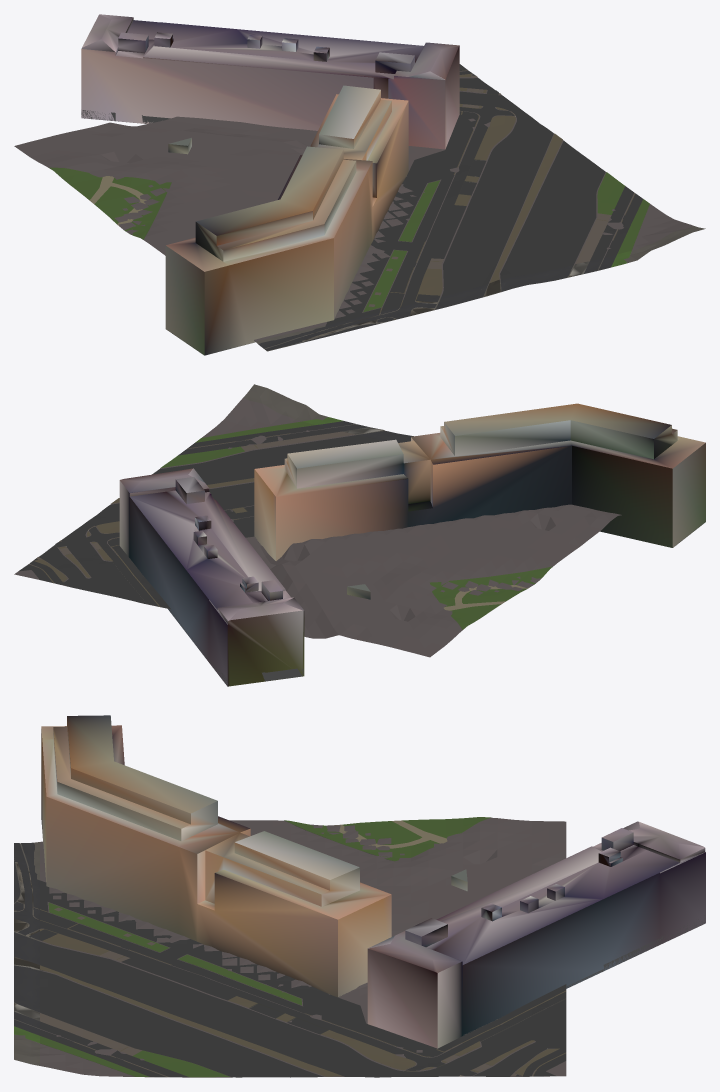
3 views of the same model, one above another, from view 1: azimuth 30°, elevation 25°; view 2: azimuth 150°, elevation 25°; view 3: azimuth 270°, elevation 25° (orthographic). The views are drawn at different scales.
Parts seen in each view (by area): view 1: c_p02_m10; view 2: c_p02_m10; view 3: c_p02_m10.
Part boxes in pixels (x1,y1,x2,y2): c_p02_m10: (14,14,705,355); c_p02_m10: (14,384,705,686); c_p02_m10: (14,715,705,1077).
Size of the model in its own units: 143 by 29.32 by 160.
